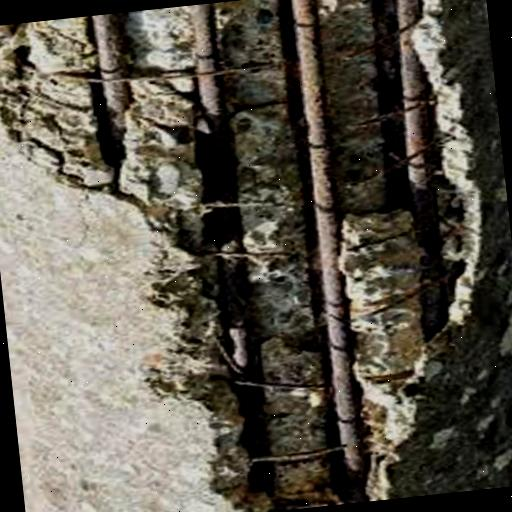spalling: (0, 0, 487, 512)
